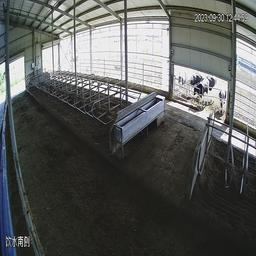cow: (193, 71, 211, 111), (175, 68, 189, 102), (215, 83, 226, 116)
